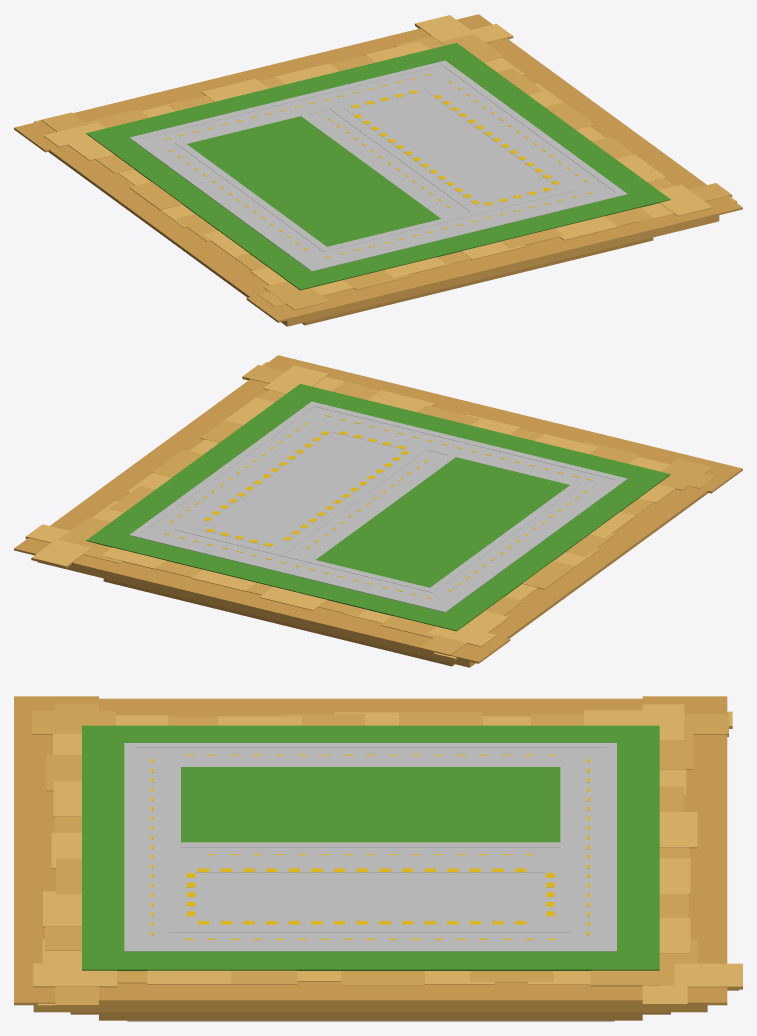
The model's file is main_island.obj.
The picture shows the model from 3 angles, top to bottom: view 1: azimuth 30°, elevation 25°; view 2: azimuth 150°, elevation 25°; view 3: azimuth 270°, elevation 25°; orthographic projection. The views are drawn at different scales.
Parts seen in each view (by area): view 1: M_grass, M_f_sand, M_asphalt, M_sidewalk, M_sand, M_concrete, M_sand2, M_f_yellow, M_f_gray, M_f_cliff, M_f_black, M_f_green; view 2: M_grass, M_f_sand, M_asphalt, M_sidewalk, M_sand, M_concrete, M_sand2, M_f_yellow, M_f_gray, M_f_cliff, M_f_black, M_f_green; view 3: M_grass, M_f_sand, M_asphalt, M_sidewalk, M_sand, M_concrete, M_sand2, M_f_cliff, M_f_yellow, M_f_black, M_f_gray, M_f_green (+1 smaller).
Boxes of the visible parts, x1,y1,x2,y2 form: M_grass: (86, 43, 669, 289); M_f_sand: (14, 14, 742, 326); M_asphalt: (141, 65, 615, 265); M_sidewalk: (129, 60, 626, 270); M_sand: (34, 15, 736, 295); M_concrete: (337, 84, 569, 209); M_sand2: (41, 34, 731, 309); M_f_yellow: (164, 74, 592, 257); M_f_gray: (130, 65, 627, 271); M_f_cliff: (302, 237, 653, 325); M_f_black: (343, 87, 564, 207); M_f_green: (86, 133, 670, 290); M_grass: (87, 384, 670, 630); M_f_sand: (14, 355, 742, 667); M_asphalt: (141, 406, 615, 606); M_sidewalk: (130, 401, 627, 611); M_sand: (26, 362, 674, 658); M_concrete: (187, 425, 419, 550); M_sand2: (59, 365, 715, 654); M_f_yellow: (164, 415, 592, 598); M_f_gray: (129, 406, 626, 612); M_f_cliff: (103, 578, 454, 666); M_f_black: (192, 428, 413, 548); M_f_green: (86, 474, 670, 631); M_grass: (82, 725, 659, 969); M_f_sand: (14, 696, 742, 1012); M_asphalt: (135, 748, 605, 946); M_sidewalk: (124, 743, 616, 950); M_sand: (33, 704, 742, 1005); M_concrete: (181, 866, 560, 927); M_sand2: (32, 703, 728, 1004); M_f_cliff: (70, 1012, 670, 1020); M_f_yellow: (151, 754, 589, 939); M_f_black: (186, 868, 554, 924); M_f_gray: (124, 747, 616, 951); M_f_green: (82, 969, 659, 970).
Bounding box in the file's own units: 259 × 28.05 × 257.
